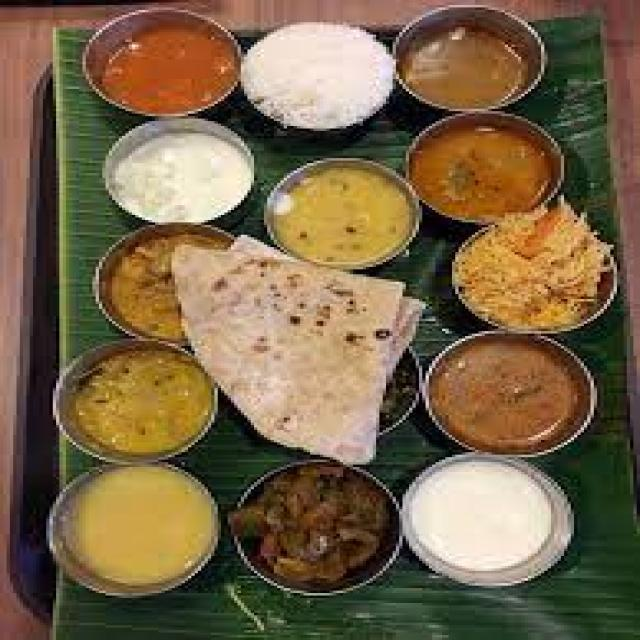curd: (397, 460, 572, 574)
dal: (266, 165, 422, 263)
rice: (234, 10, 405, 133)
roti: (198, 253, 422, 436)
sambar-rasam: (83, 15, 241, 118)
sweet: (398, 463, 568, 575)
veg: (428, 333, 598, 456)
veg-fry: (230, 462, 397, 594)
